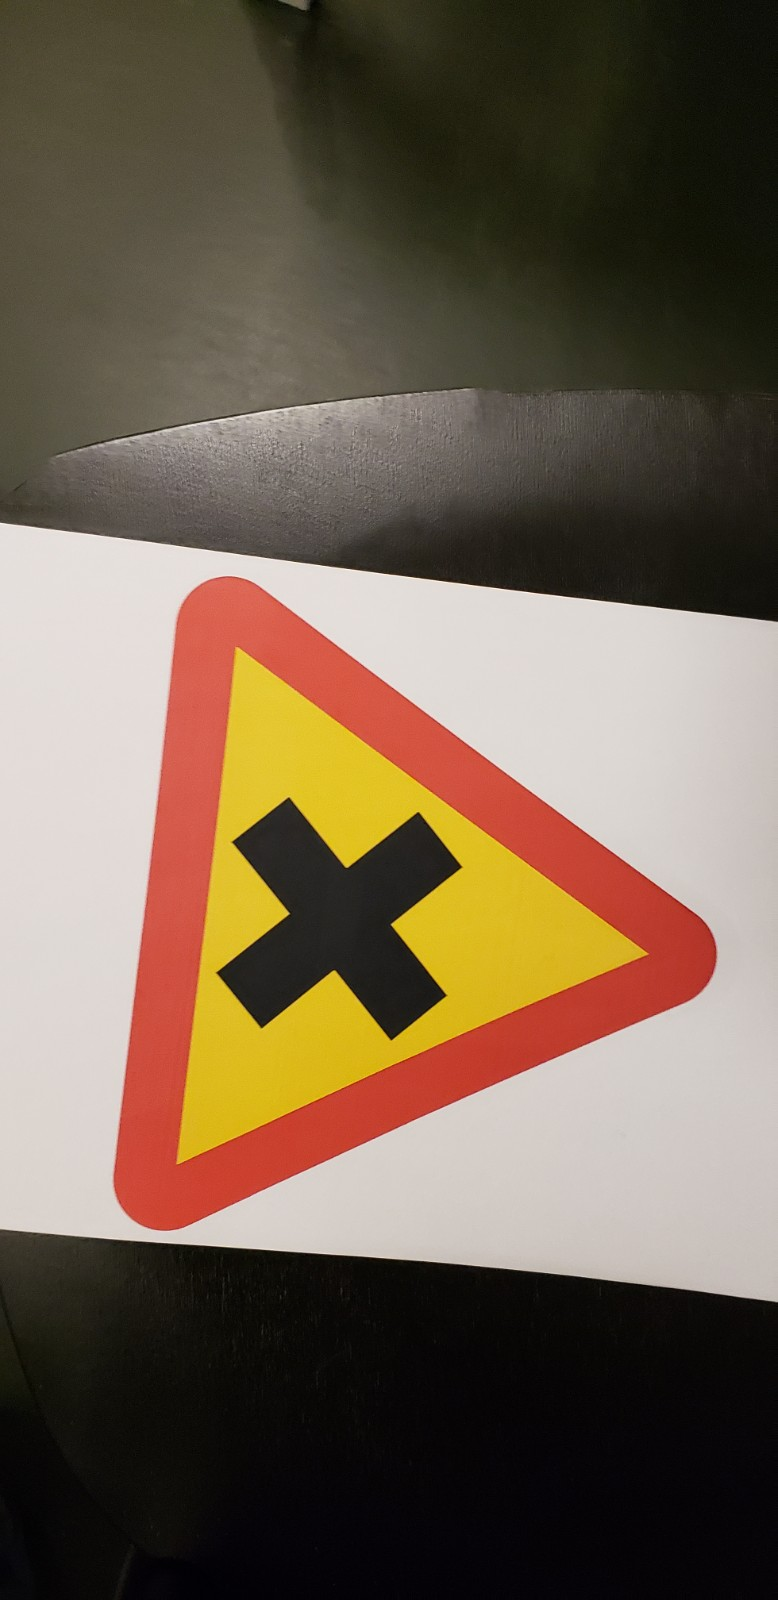junction: (68, 568, 709, 1243)
